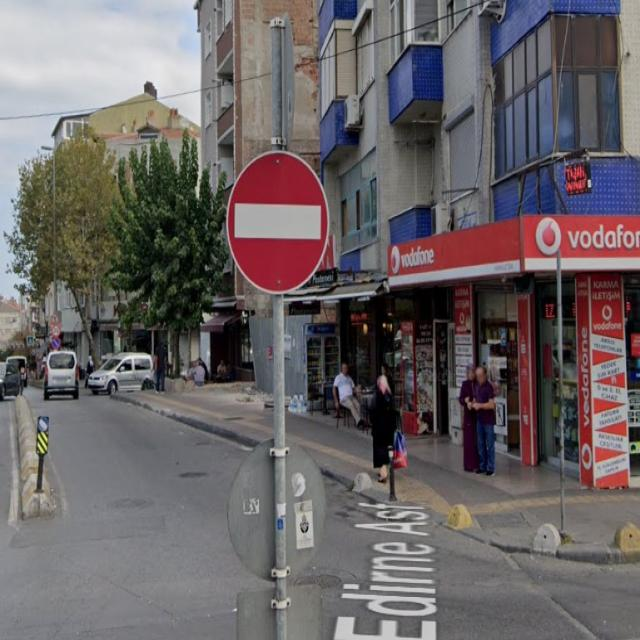girisyok: (226, 151, 329, 292)
